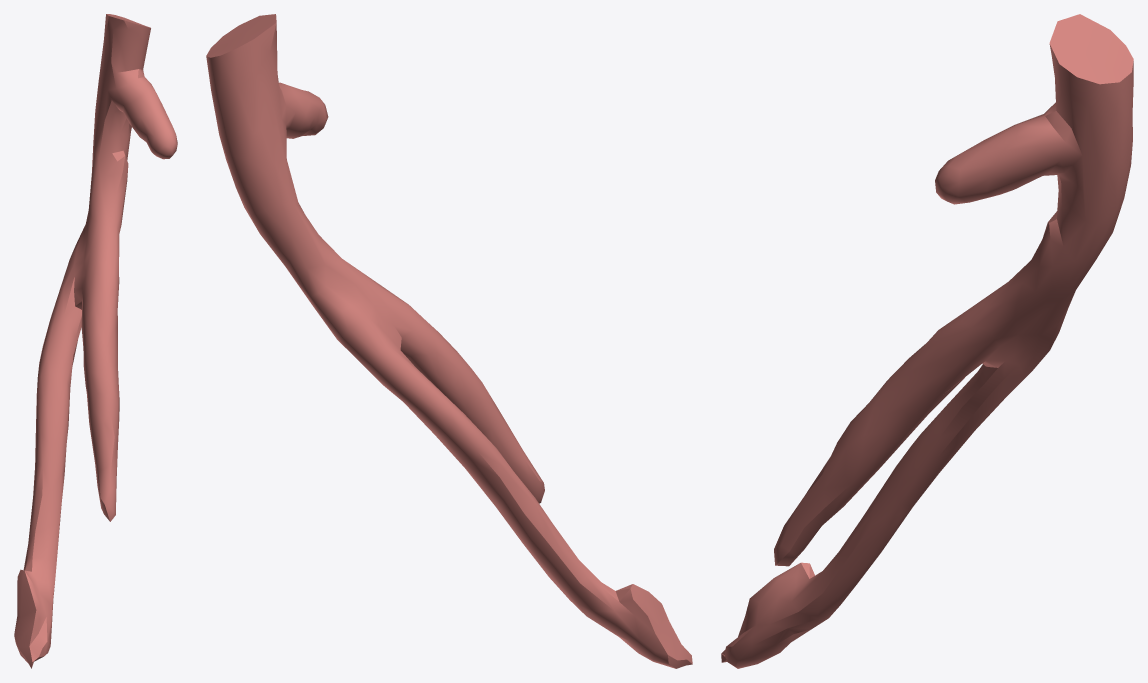
The model's file is fma39629_mm1954.glb.
3 renders of one model, left to right at view 1: azimuth 30°, elevation 25°; view 2: azimuth 150°, elevation 25°; view 3: azimuth 270°, elevation 25°, orthographic. The views are drawn at different scales.
Parts seen in each view (by area): view 1: FMA39629_MM1954; view 2: FMA39629_MM1954; view 3: FMA39629_MM1954.
Part boxes in pixels (box(x1,y1,x2,y2)): FMA39629_MM1954: box(14, 14, 177, 668); FMA39629_MM1954: box(206, 14, 692, 668); FMA39629_MM1954: box(721, 14, 1133, 668).
Size of the model in its own units: 0.0222 by 0.0461 by 0.0217.
